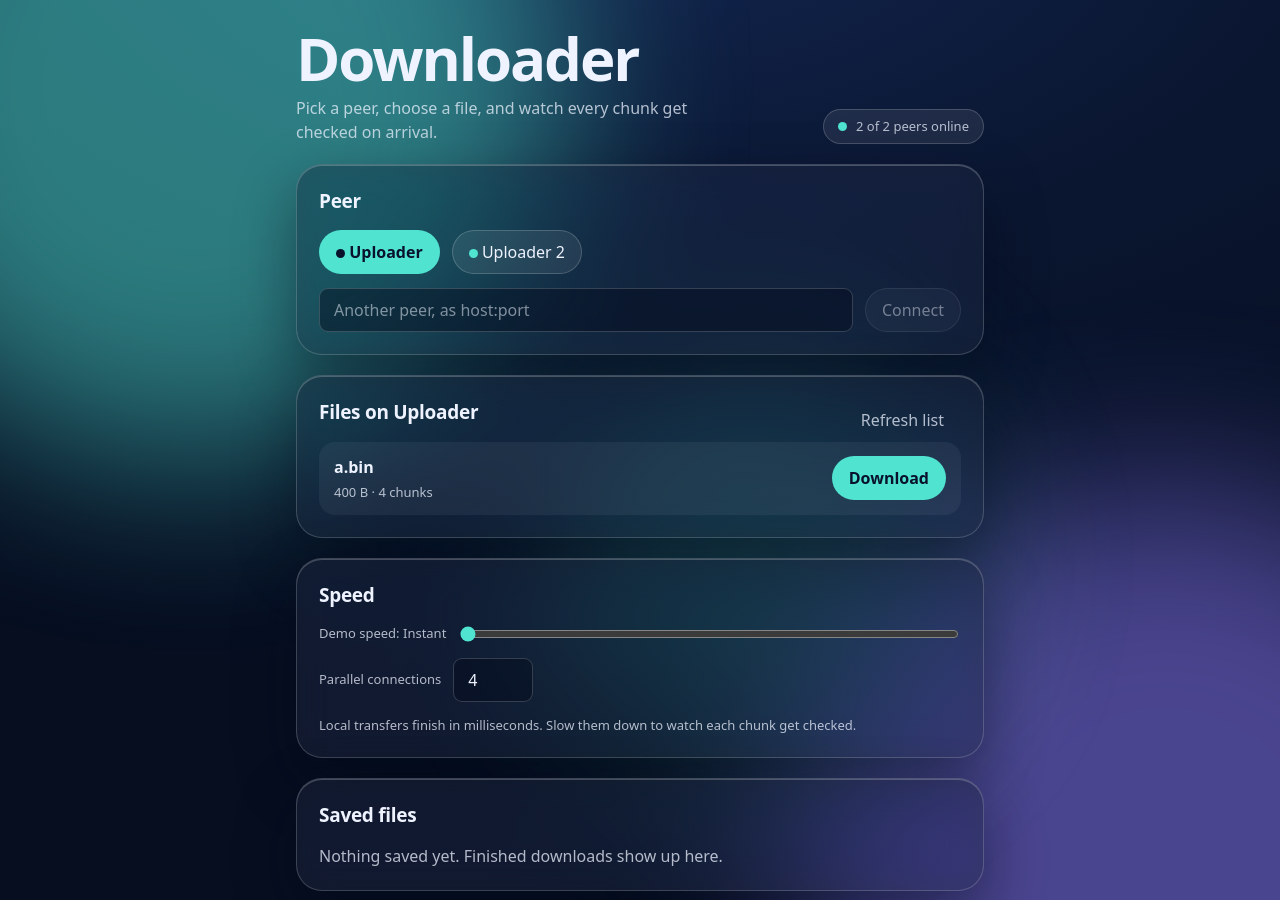
Test case: Downloader page › shows the verified verdict with the file hash when the download is done
Click the button with aria-label "Download a.bin": x=889, y=478 [832,456,946,500]
(page scrolled)
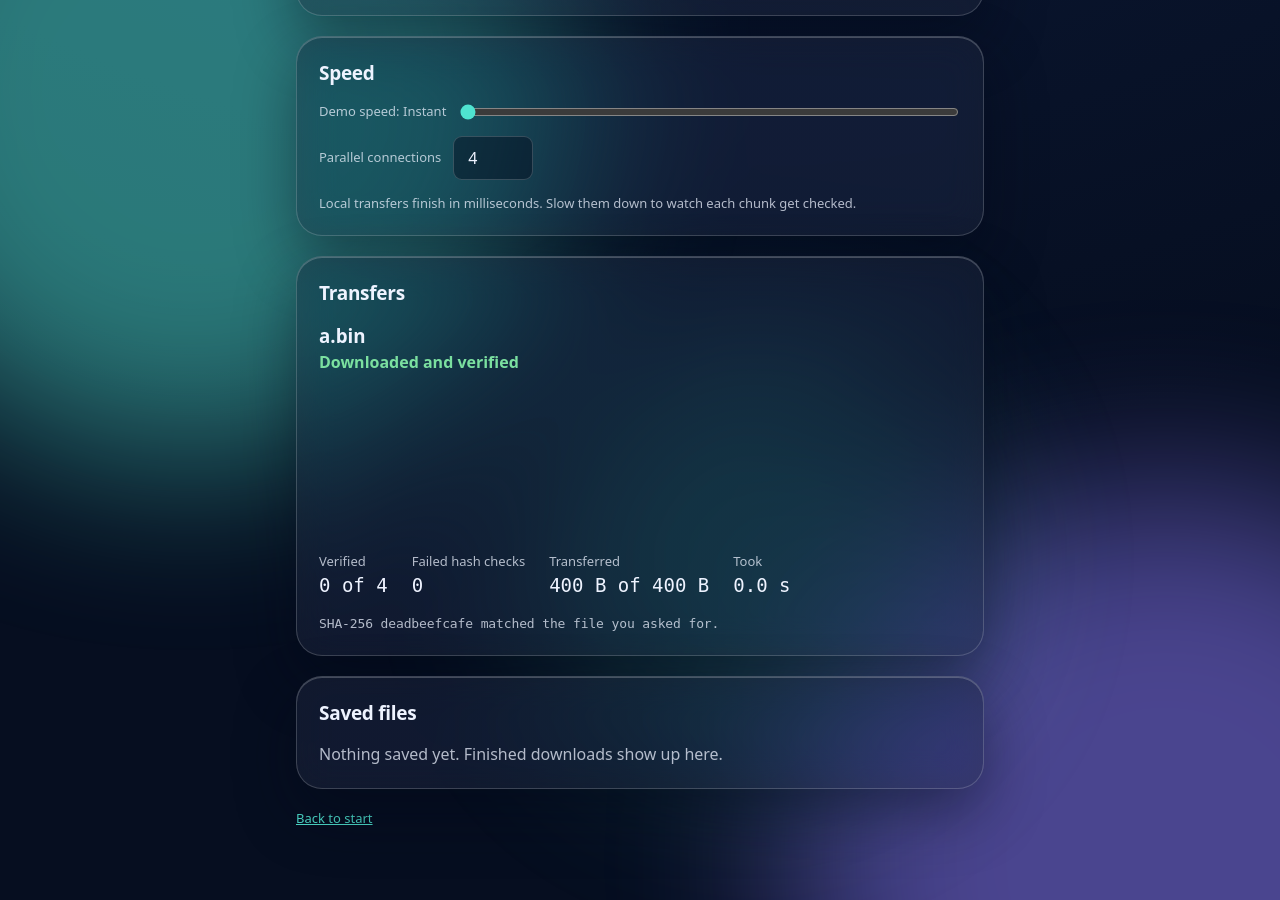
Now the text "Downloaded and verified" is shown, box [319,350,519,374]
Now the text "SHA-256 deadbeefcafe matched the file you asked for." is shown, box [319,616,719,631]
